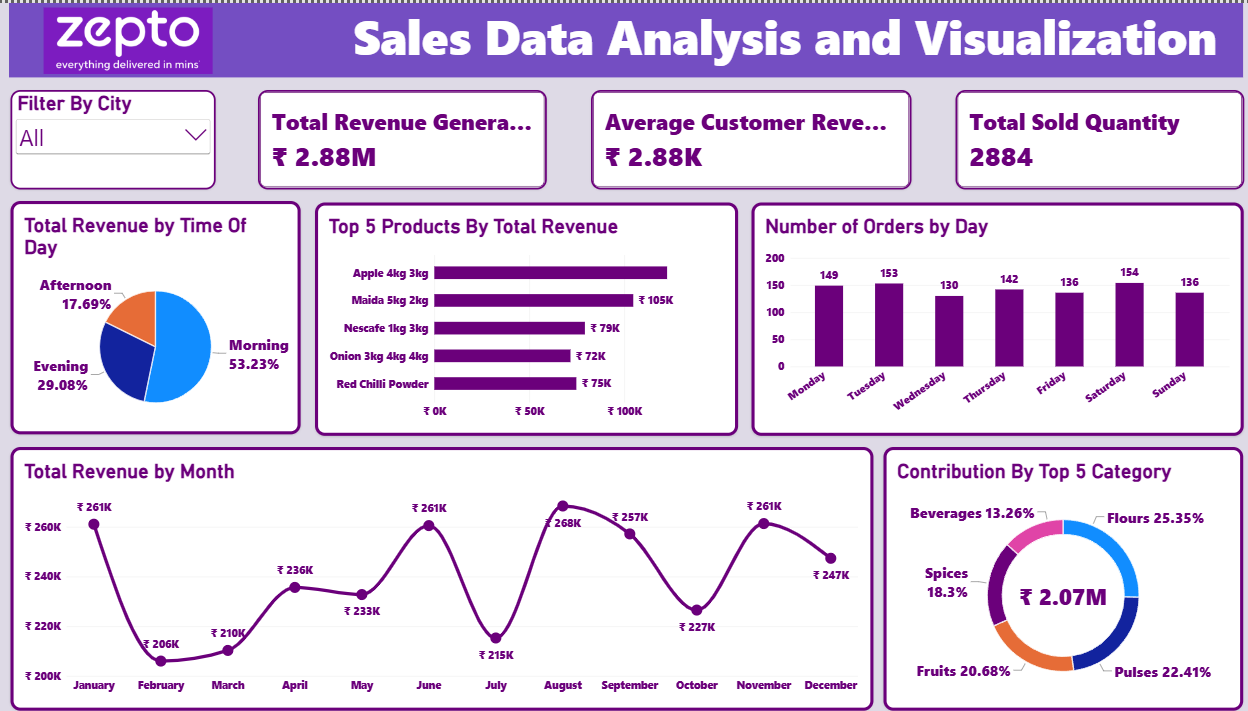

This screenshot's page, from the dashboard's own definition file:
{"tool":"powerbi","page":{"name":"Sales Dashboard","canvas":[1920,1080],"ordinal":0},"visuals":[{"type":"textbox","box":[28.2,0,1868.9,112.7],"z":0},{"type":"image","box":[75.1,7,265.3,101],"z":1},{"type":"cardVisual","fields":{"Data":["Sum(Orders.total_amount)"]},"box":[405.4,131.4,437.3,150.5],"z":2},{"type":"cardVisual","fields":{"Data":["Avg(Orders.total_amount)"]},"box":[908.8,131.4,485,150.5],"z":3},{"type":"cardVisual","fields":{"Data":["Sum(Orders.quantity)"]},"box":[1459.9,131.4,437.3,150.5],"z":4},{"type":"slicer","fields":{"Values":["Customers.city"]},"box":[28.7,131.4,310.6,150.5],"z":5},{"type":"pieChart","title":"Total Revenue by Time Of Day","fields":{"Category":["Orders.time_of_day"],"Y":["Sum(Orders.total_amount)"]},"box":[29.5,299.8,439.6,353.6],"z":6},{"type":"barChart","title":"Top 5 Products By Total Revenue","fields":{"Category":["Products.product_name"],"Y":["Sum(Orders.total_amount)"]},"box":[489.8,301.1,640.4,353.6],"z":7},{"type":"columnChart","title":"Number of Orders by Day","fields":{"Category":["Orders.order_day_name"],"Y":["CountNonNull(Orders.order_id)"]},"box":[1151.7,301.1,745.5,353.6],"z":8},{"type":"lineChart","title":"Total Revenue by Month","fields":{"Category":["Orders.order_month_name"],"Y":["Sum(Orders.total_amount)"]},"box":[28.7,671.4,1307,399],"z":9},{"type":"donutChart","title":"Contribution By Top 5 Category","fields":{"Category":["Products.category"],"Y":["Sum(Orders.total_amount)"]},"box":[1352.4,671.4,544.8,399],"z":10}]}

Visuals, with their boxes in screenshot pixels (x1, y1, x2, y2), scaled from the page's 1920x1080 canvas onto the 1248x711 screenshot:
textbox: bbox=[18, 0, 1233, 74]
image: bbox=[49, 5, 221, 71]
cardVisual - Sum(Orders.total_amount): bbox=[264, 87, 548, 186]
cardVisual - Avg(Orders.total_amount): bbox=[591, 87, 906, 186]
cardVisual - Sum(Orders.quantity): bbox=[949, 87, 1233, 186]
slicer - Customers.city: bbox=[19, 87, 221, 186]
"Total Revenue by Time Of Day" pieChart: bbox=[19, 197, 305, 430]
"Top 5 Products By Total Revenue" barChart: bbox=[318, 198, 735, 431]
"Number of Orders by Day" columnChart: bbox=[749, 198, 1233, 431]
"Total Revenue by Month" lineChart: bbox=[19, 442, 868, 705]
"Contribution By Top 5 Category" donutChart: bbox=[879, 442, 1233, 705]
